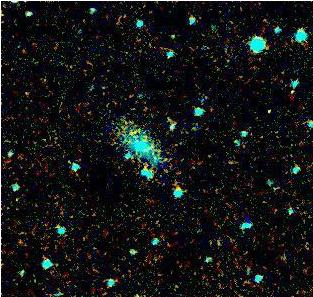star: (252, 94, 282, 124)
